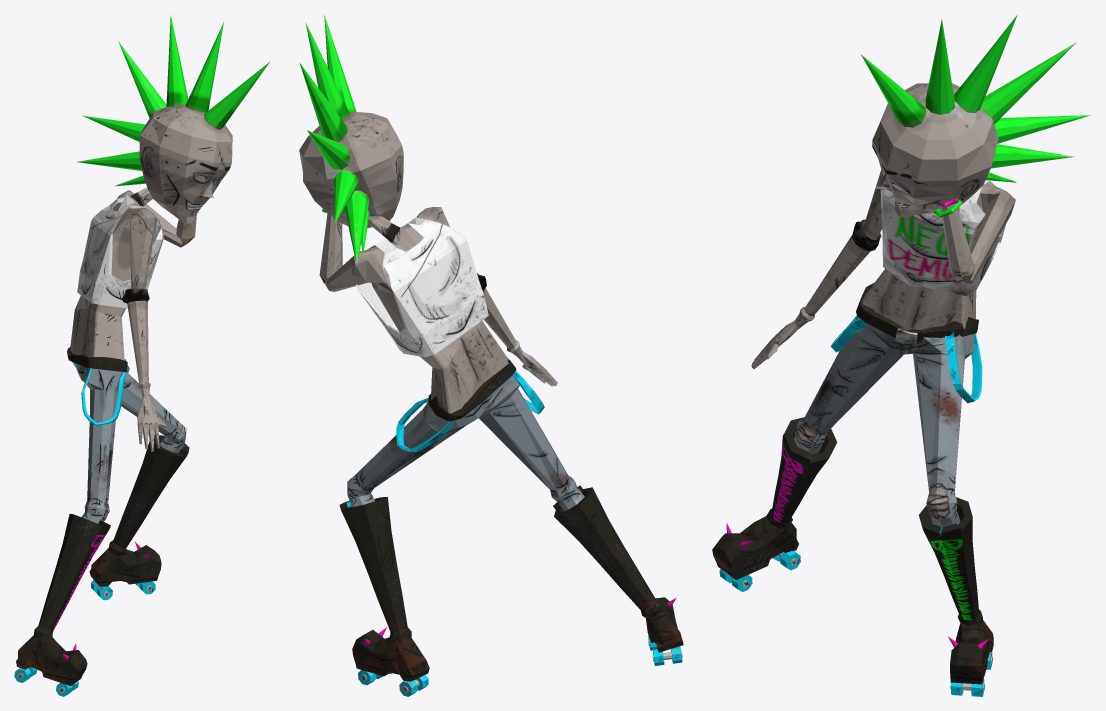
The model's file is punkAnimation_000023.obj.
The picture shows the model from 3 angles, left to right: view 1: azimuth 30°, elevation 25°; view 2: azimuth 150°, elevation 25°; view 3: azimuth 270°, elevation 25°; orthographic projection. The views are drawn at different scales.
Parts seen in each view (by area): view 1: Cube.004_Cube.003; view 2: Cube.004_Cube.003; view 3: Cube.004_Cube.003.
Part boxes in pixels (x1,y1,x2,y2): Cube.004_Cube.003: [14, 15, 269, 696]; Cube.004_Cube.003: [299, 15, 683, 696]; Cube.004_Cube.003: [712, 14, 1090, 696].
Size of the model in its own units: 3.59 by 6.69 by 3.19.
